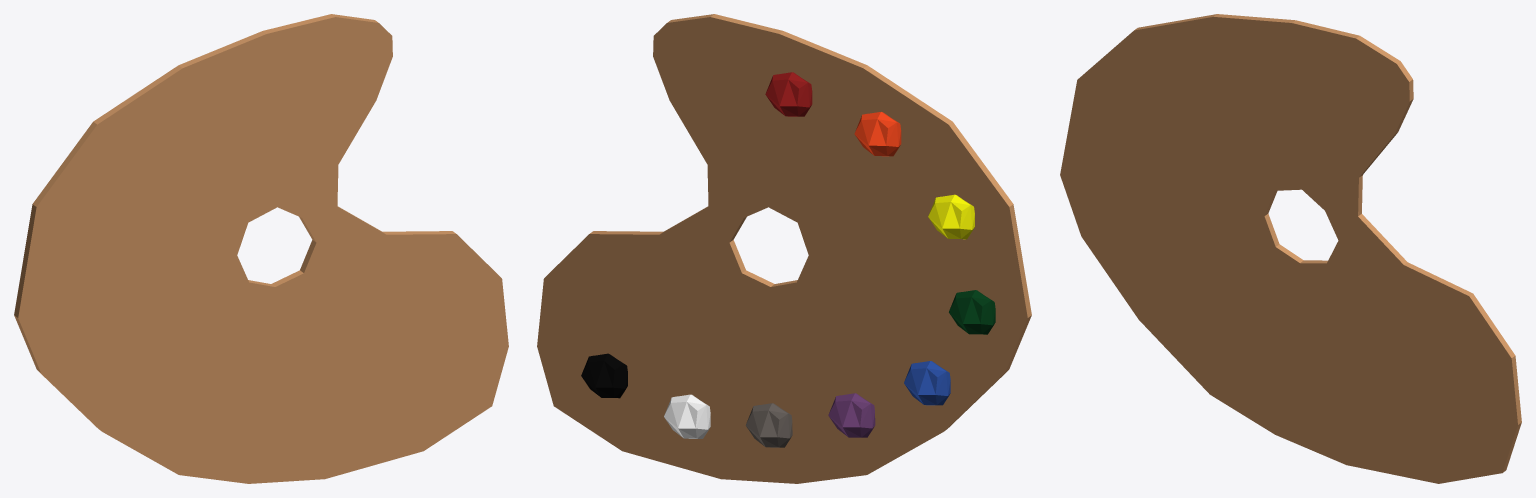
File: rang colorPalette.fbx
3 views of the same model, side by side, from view 1: azimuth 30°, elevation 25°; view 2: azimuth 150°, elevation 25°; view 3: azimuth 330°, elevation 25° (orthographic). The views are drawn at different scales.
Visible parts, largest first — view 1: imagetostl_mesh0; view 2: imagetostl_mesh0, imagetostl_mesh4, imagetostl_mesh3, imagetostl_mesh7, imagetostl_mesh8, imagetostl_mesh1, imagetostl_mesh6, imagetostl_mesh9, imagetostl_mesh5, imagetostl_mesh2; view 3: imagetostl_mesh0.
Part boxes in pixels (<box>): imagetostl_mesh0: <box>14,14,508,483</box>; imagetostl_mesh0: <box>537,14,1031,483</box>; imagetostl_mesh4: <box>854,112,901,156</box>; imagetostl_mesh3: <box>765,72,812,116</box>; imagetostl_mesh7: <box>949,290,995,334</box>; imagetostl_mesh8: <box>745,403,792,447</box>; imagetostl_mesh1: <box>828,393,875,437</box>; imagetostl_mesh6: <box>904,361,950,405</box>; imagetostl_mesh9: <box>664,394,710,438</box>; imagetostl_mesh5: <box>928,194,974,239</box>; imagetostl_mesh2: <box>581,353,627,398</box>; imagetostl_mesh0: <box>1060,14,1521,483</box>.
Size of the model in its own units: 161 by 144 by 10.06.
